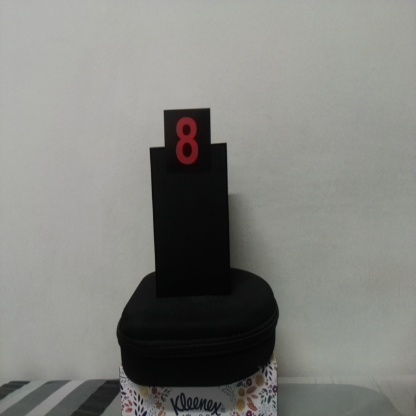id_8: (164, 110, 211, 181)
